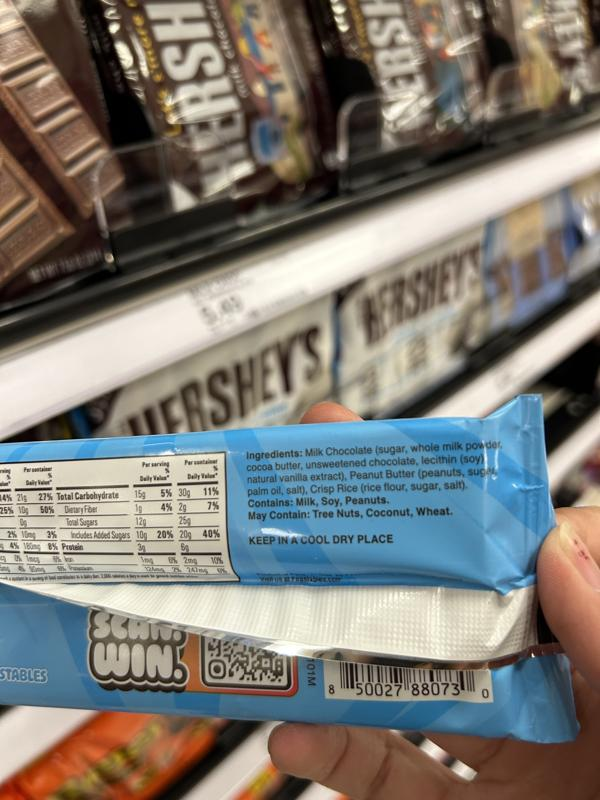ingredients: (243, 440, 508, 497)
